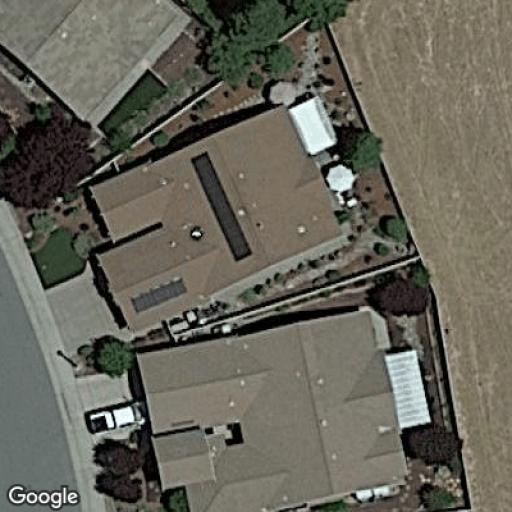solar-panel: (189, 149, 256, 263), (128, 277, 191, 314)
